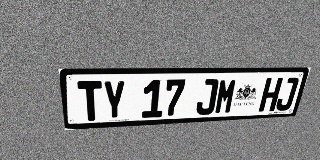1: (142, 80, 165, 118)
7: (163, 79, 186, 117)
H: (258, 78, 283, 112)
J: (274, 77, 300, 111), (195, 79, 219, 115)
M: (214, 78, 238, 114)
T: (77, 81, 103, 121)
Y: (102, 80, 125, 120)
